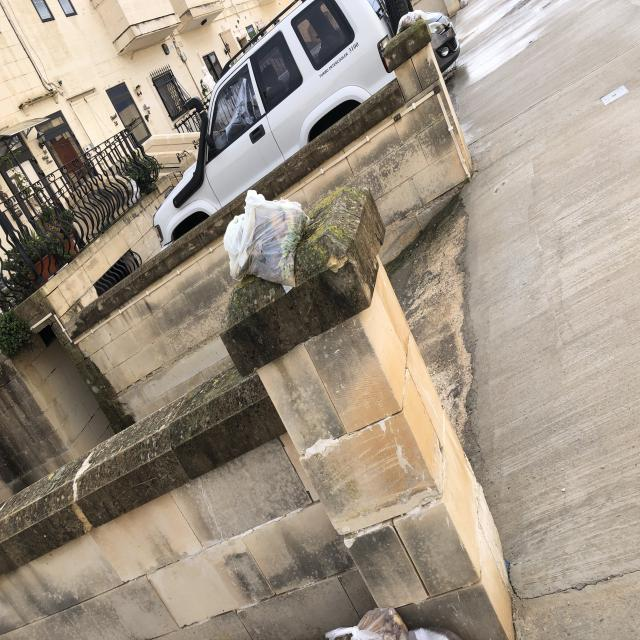Organic Waste -White Bag-: (223, 183, 316, 298)
Other: (322, 599, 458, 640)
